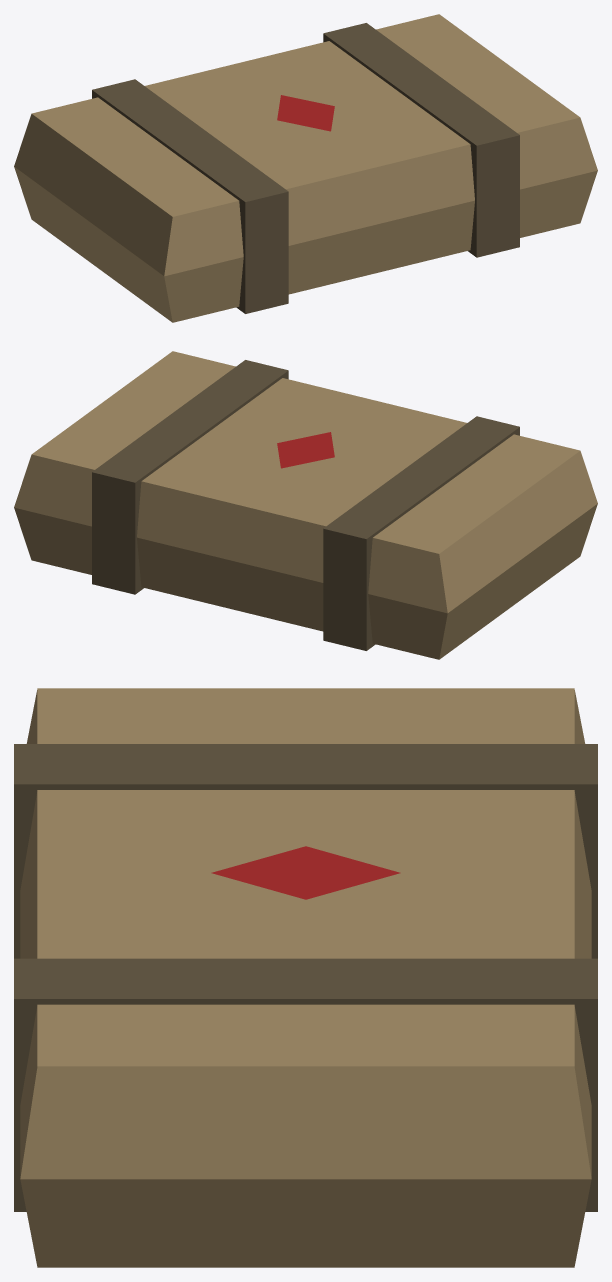
Rendered from Coke_Brick.glb.
The picture shows the model from 3 angles, top to bottom: view 1: azimuth 30°, elevation 25°; view 2: azimuth 150°, elevation 25°; view 3: azimuth 270°, elevation 25°; orthographic projection. The views are drawn at different scales.
Visible parts, largest first — view 1: Coke_Brick; view 2: Coke_Brick; view 3: Coke_Brick.
Boxes of the visible parts, x1=… form: Coke_Brick: x1=14, y1=14, x2=597, y2=322; Coke_Brick: x1=14, y1=351, x2=597, y2=659; Coke_Brick: x1=14, y1=688, x2=597, y2=1267.
Bounding box in the file's own units: 0.3 × 0.074 × 0.184.
